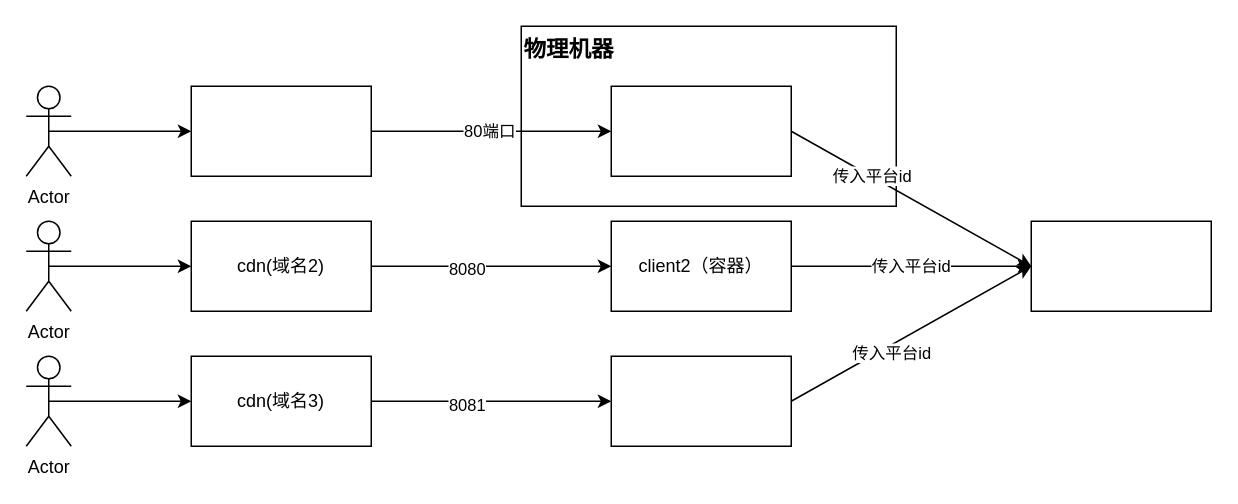
The diagram is 1238 pixels wide and 504 high, and some of its shapes have lost their labels. The centre of each missing label's shape, as x and y in pixels:
"cdn(域名1)" belongs at pixel 280 130.
"client1（容器）" belongs at pixel 700 130.
"client3（容器）" belongs at pixel 700 400.
"server" belongs at pixel 1120 265.
